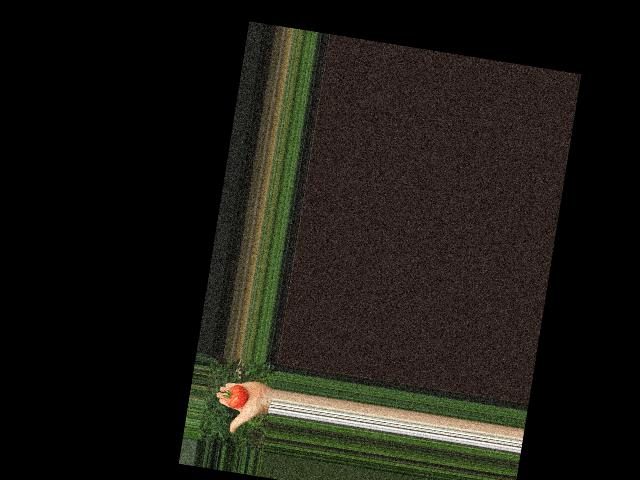tomato: (225, 382, 249, 410)
